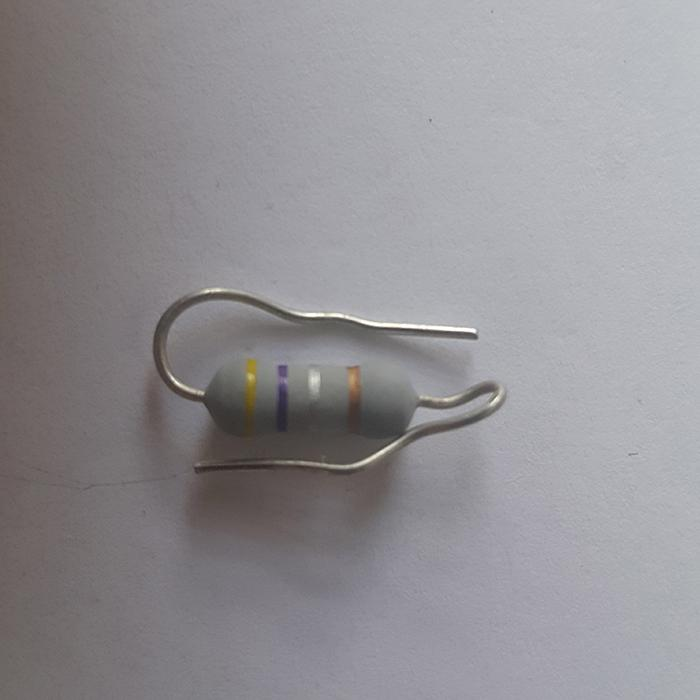resistor: (206, 358, 417, 440)
